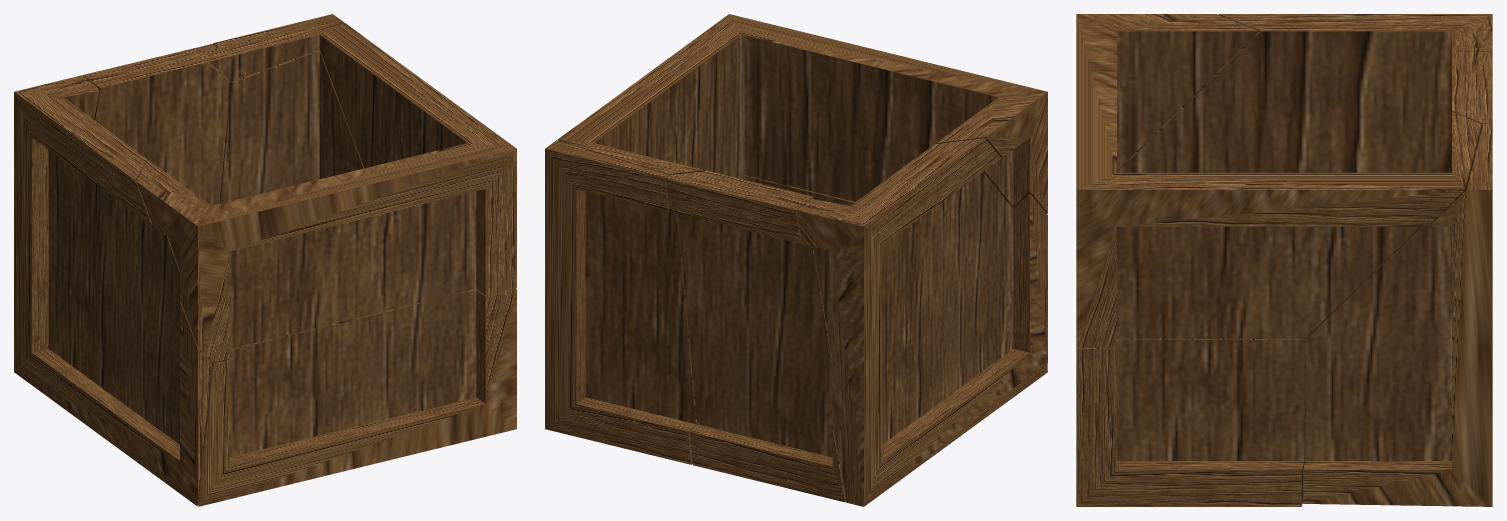
Rendered from Wood_Box_Empty_Drop.fbx.
The picture shows the model from 3 angles, left to right: view 1: azimuth 30°, elevation 25°; view 2: azimuth 150°, elevation 25°; view 3: azimuth 270°, elevation 25°; orthographic projection. The views are drawn at different scales.
Parts seen in each view (by area): view 1: Wood_Box_Empty_cell, Wood_Box_Empty_cell.003, Wood_Box_Empty_cell.002, Wood_Box_Empty_cell.001, Wood_Box_Empty_cell.004; view 2: Wood_Box_Empty_cell.003, Wood_Box_Empty_cell, Wood_Box_Empty_cell.004, Wood_Box_Empty_cell.001, Wood_Box_Empty_cell.002; view 3: Wood_Box_Empty_cell, Wood_Box_Empty_cell.001, Wood_Box_Empty_cell.003, Wood_Box_Empty_cell.002, Wood_Box_Empty_cell.004.
Boxes of the visible parts, box(x1,y1,x2,y2) form: Wood_Box_Empty_cell: box(136, 23, 516, 362); Wood_Box_Empty_cell.003: box(14, 75, 213, 506); Wood_Box_Empty_cell.002: box(198, 288, 516, 506); Wood_Box_Empty_cell.001: box(213, 14, 363, 203); Wood_Box_Empty_cell.004: box(82, 44, 230, 205); Wood_Box_Empty_cell.003: box(796, 138, 1047, 506); Wood_Box_Empty_cell: box(557, 14, 1047, 213); Wood_Box_Empty_cell.004: box(666, 171, 845, 502); Wood_Box_Empty_cell.001: box(545, 140, 697, 464); Wood_Box_Empty_cell.002: box(738, 174, 1047, 372); Wood_Box_Empty_cell: box(1076, 14, 1481, 347); Wood_Box_Empty_cell.001: box(1303, 123, 1492, 506); Wood_Box_Empty_cell.003: box(1117, 14, 1492, 172); Wood_Box_Empty_cell.002: box(1076, 338, 1305, 506); Wood_Box_Empty_cell.004: box(1452, 51, 1492, 125).
Bounding box in the file's own units: 57.17 × 48.05 × 57.17.
